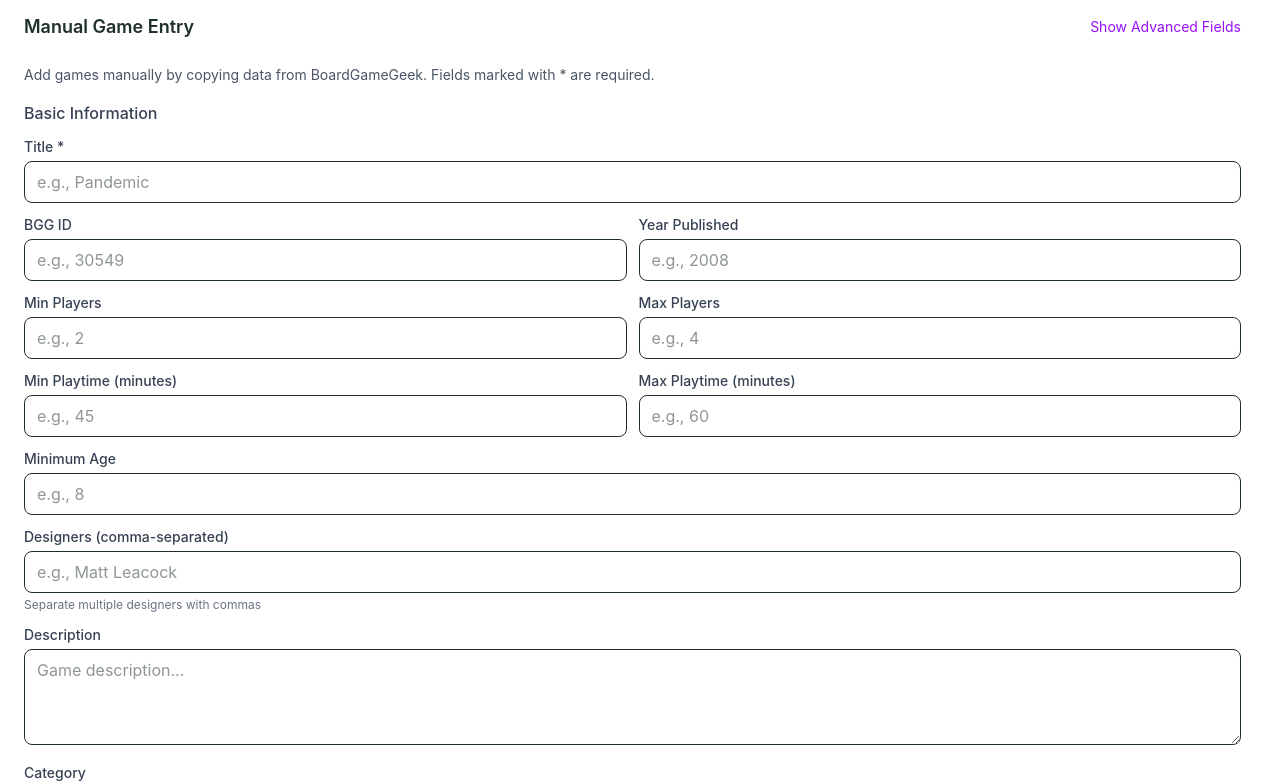
Test: ManualGameEntryPanel › Form Submission › disables button while submitting
Type "Test Game" into the field with placeholder "e.g., Pandemic" at (632, 182), box [24,161,1241,203]
(page scrolled)
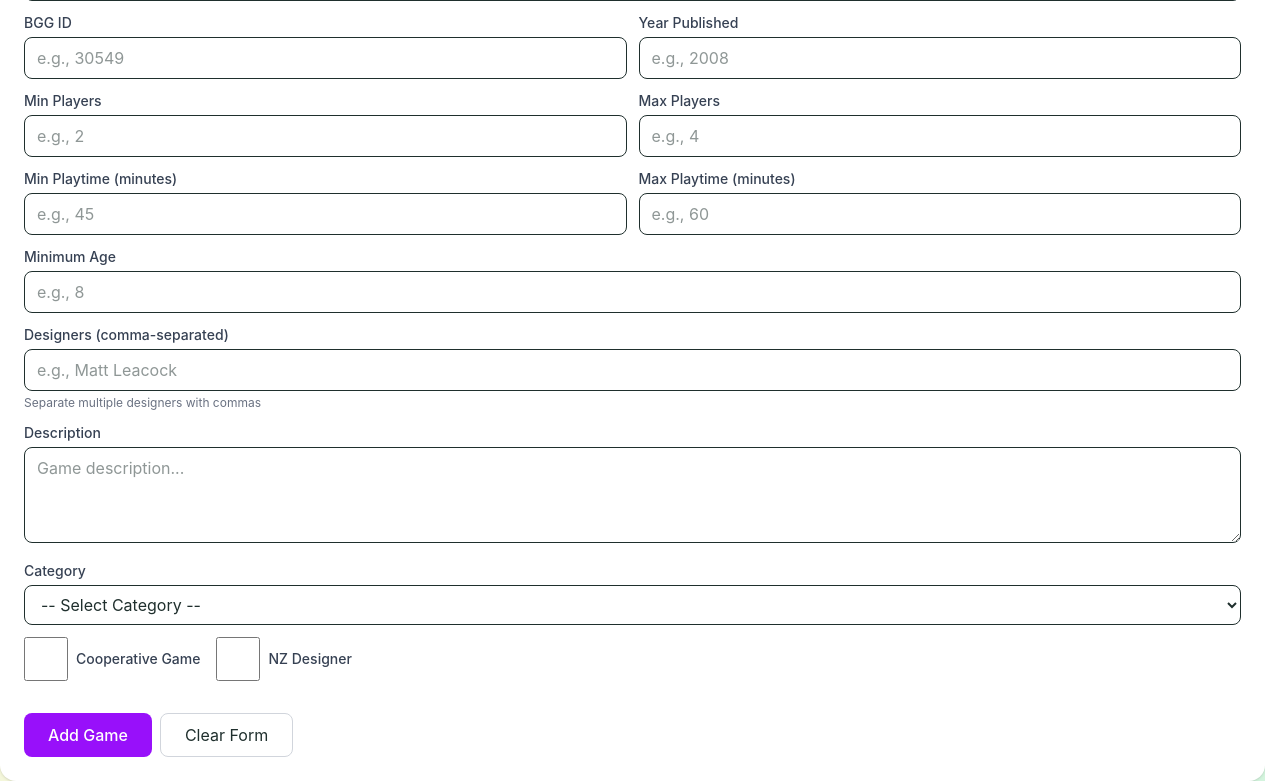
Click the button "Add Game" at (88, 735), box [24,713,152,757]
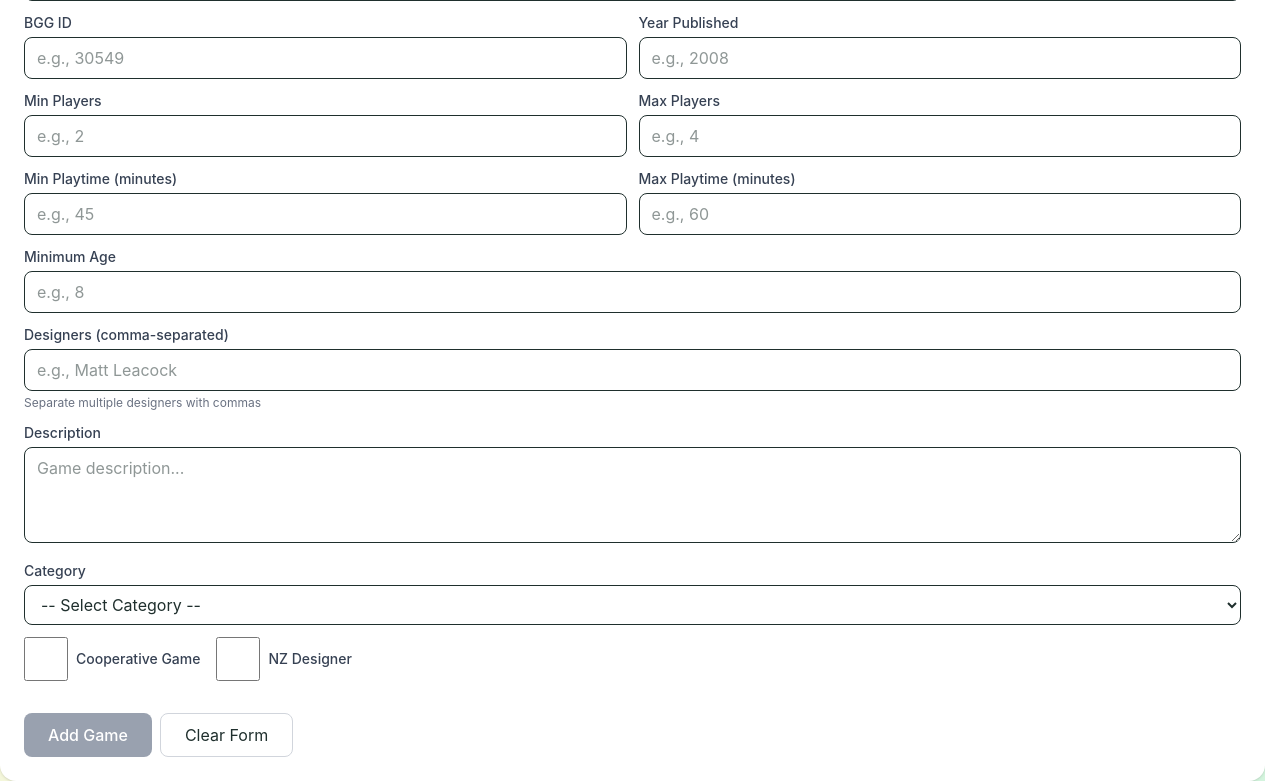
Result: the button named "Adding Game" is disabled at [24,713,152,757]
